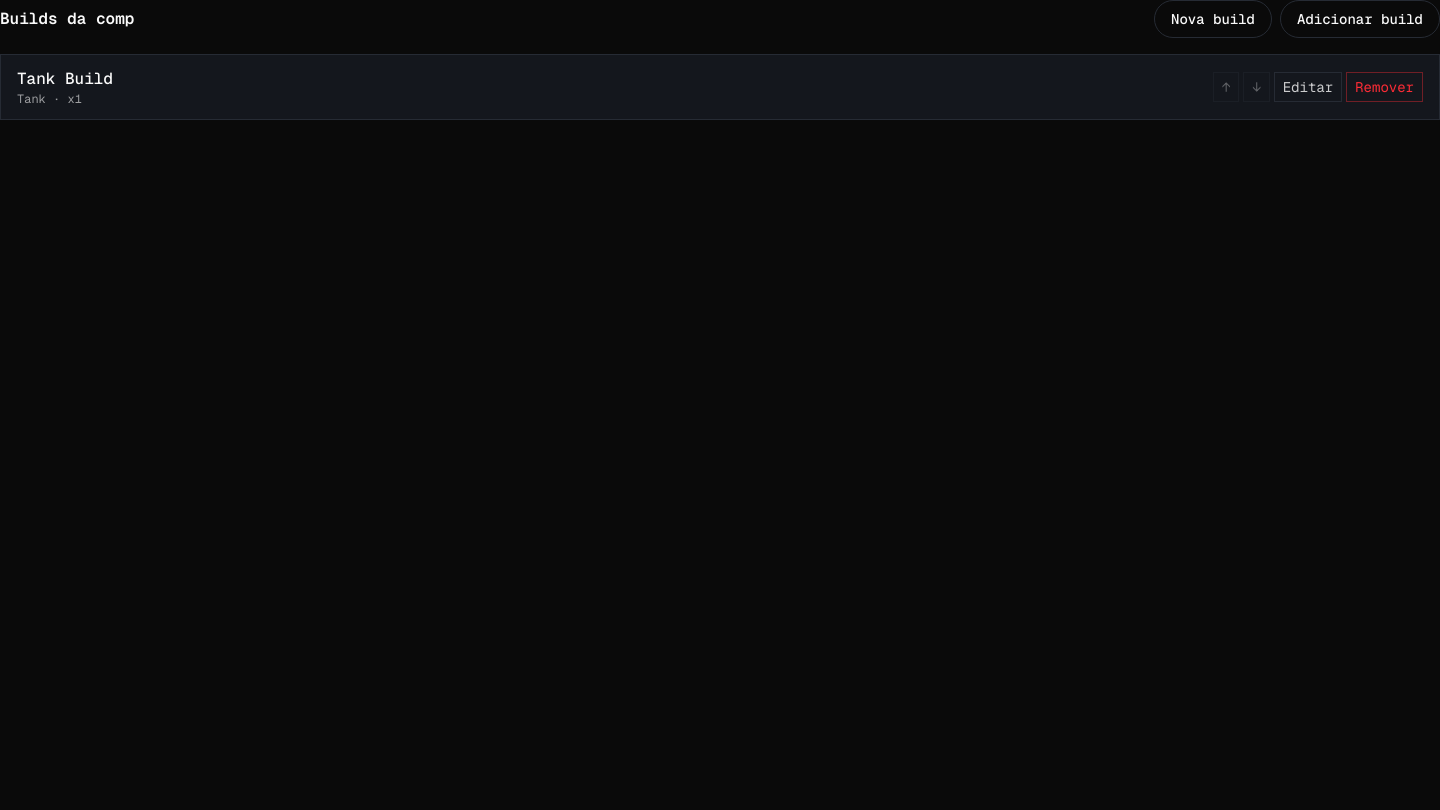
Test: CompBuildsManager (ACM-098) › AC#2 (error path): reverts and shows a retry banner when addBuildToComp fails
The image size is (1440, 810).
What coordinates should you click on to do the following:
click the button "Adicionar build"
I would click on:
 (1360, 19)
Its box is [1280,0,1439,38].
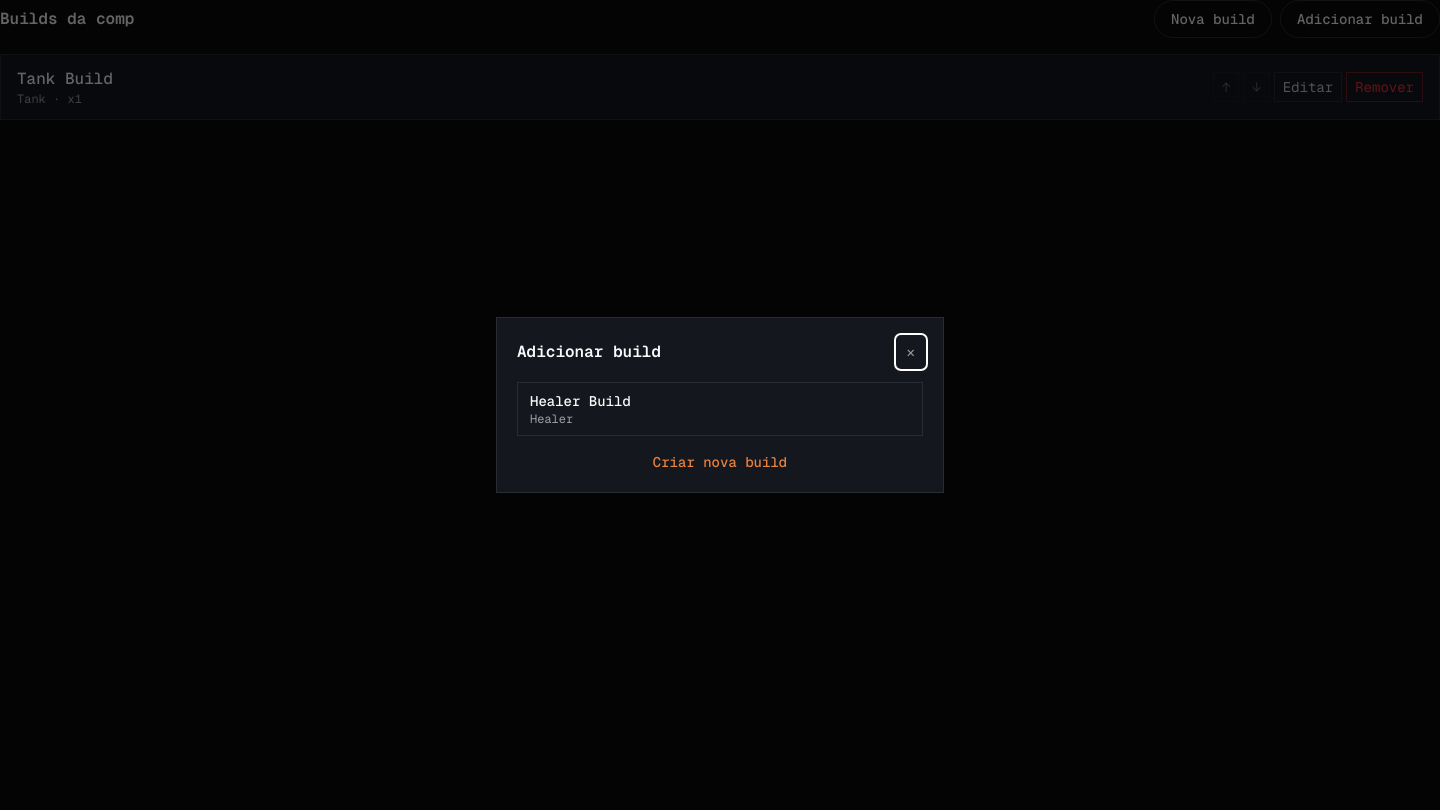
What coordinates should you click on to do the following:
click the button "Healer Build Healer"
I would click on:
 (580, 401)
Its box is [517,382,923,436].
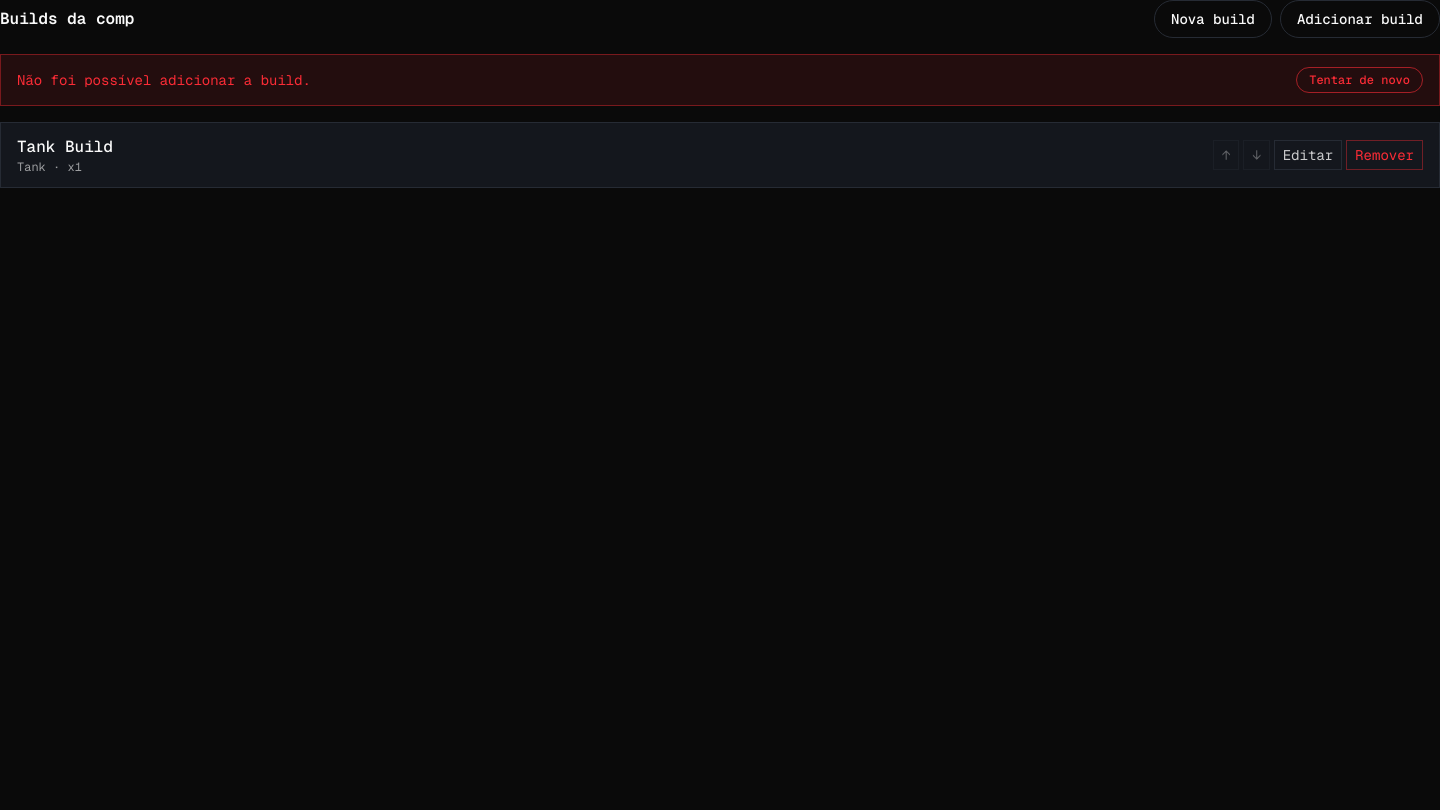
Expected: the text "Não foi possível adicionar a build." is shown, [17,70,311,90]
Expected: the button "Tentar de novo" is shown, [1296,67,1423,93]
Expected: the button "Healer Build" is gone
